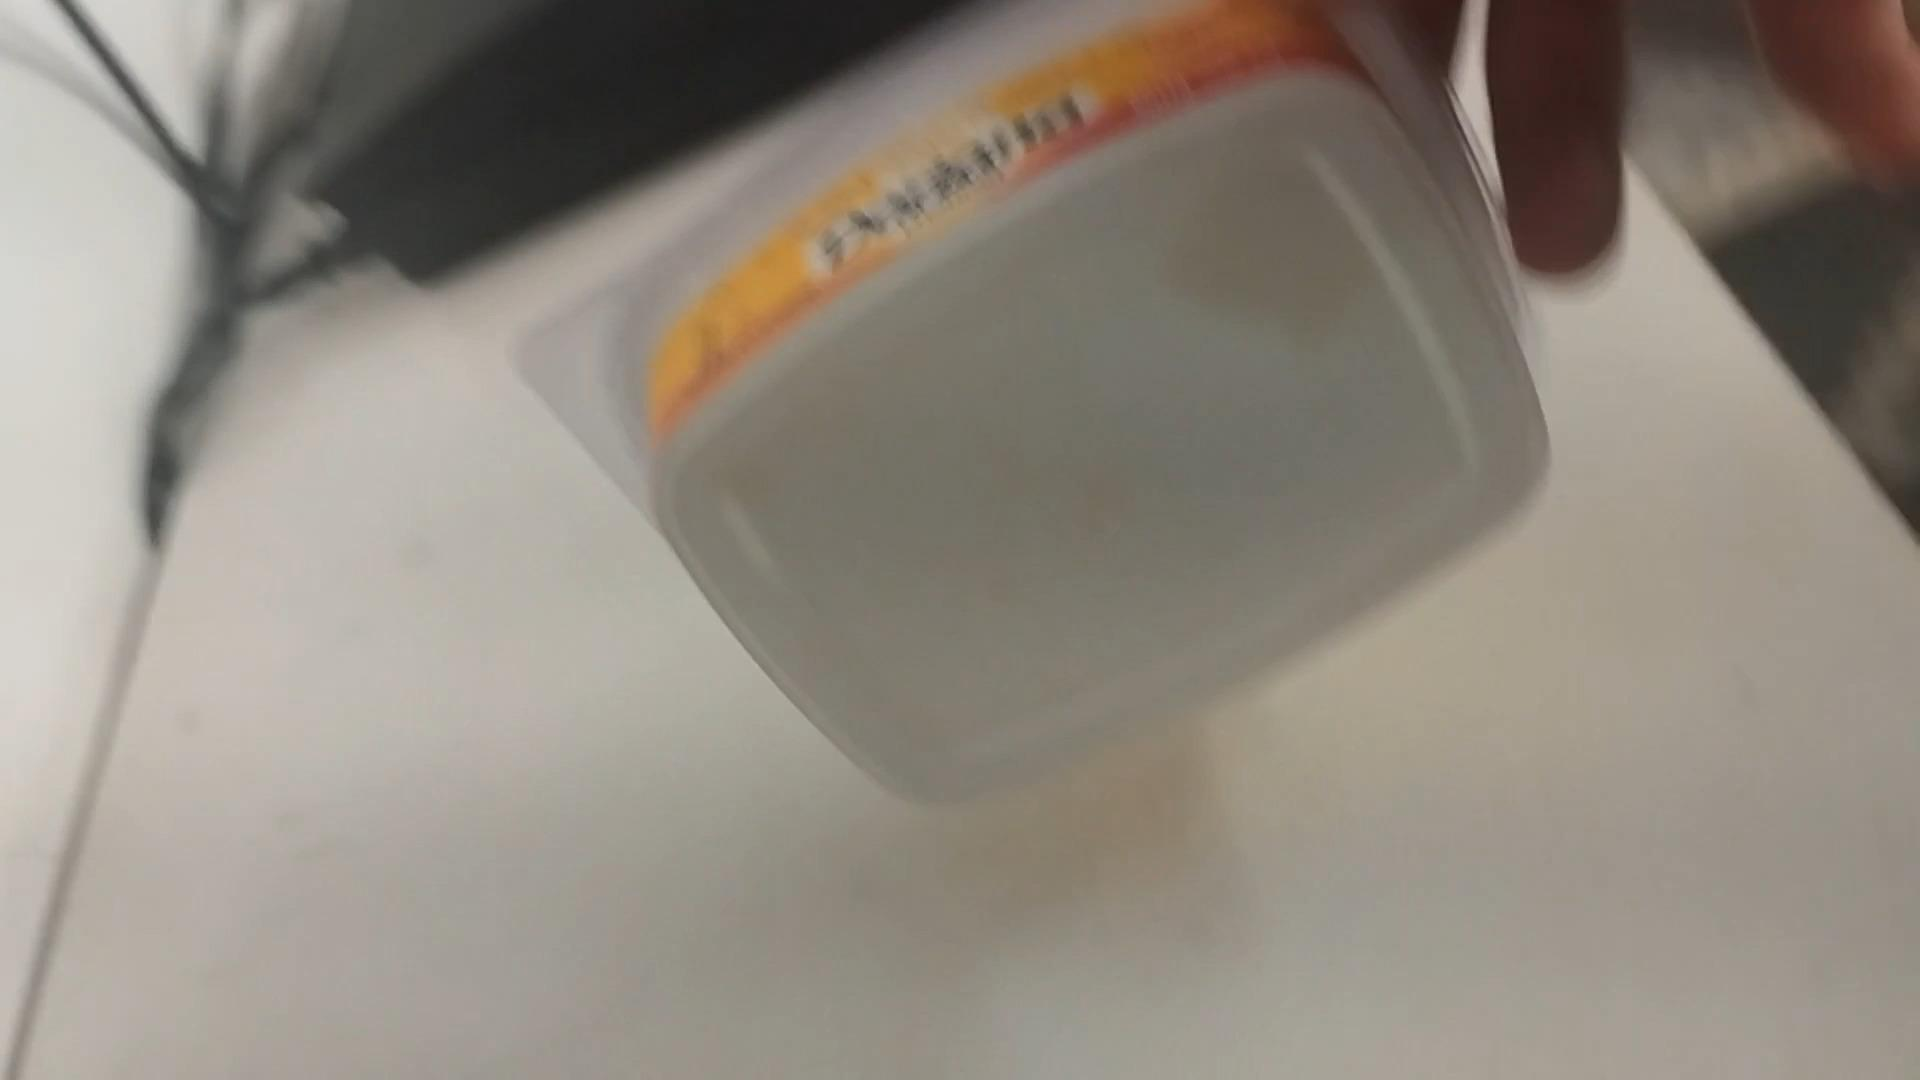butter: (515, 0, 1575, 808)
